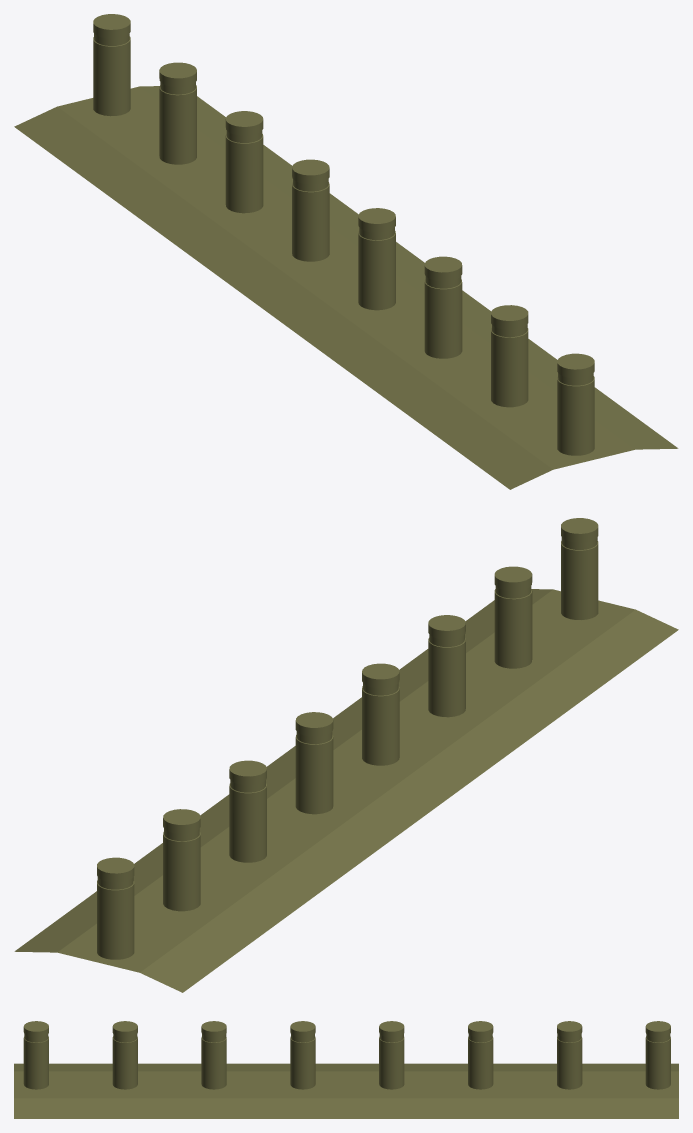
File: AutostopWay.fbx
3 renders of one model, top to bottom at view 1: azimuth 30°, elevation 25°; view 2: azimuth 150°, elevation 25°; view 3: azimuth 270°, elevation 25°, orthographic. The views are drawn at different scales.
Parts seen in each view (by area): view 1: Platform, Colon13, Colon10, Colon14, Colon9, Colon11, Colon12, Colon15, Colon; view 2: Platform, Colon14, Colon11, Colon, Colon10, Colon12, Colon9, Colon15, Colon13; view 3: Platform, Colon12, Colon13, Colon, Colon10, Colon14, Colon11, Colon9, Colon15.
Boxes of the visible parts, x1,y1,x2,y2 form: Platform: (14, 86, 678, 489); Colon13: (424, 256, 462, 358); Colon10: (225, 111, 263, 213); Colon14: (491, 305, 528, 407); Colon9: (159, 62, 196, 164); Colon11: (292, 159, 329, 261); Colon12: (358, 208, 395, 310); Colon15: (557, 353, 594, 455); Colon: (93, 14, 130, 116); Platform: (14, 589, 678, 992); Colon14: (494, 566, 532, 668); Colon11: (295, 712, 333, 814); Colon: (97, 857, 134, 959); Colon10: (229, 760, 266, 862); Colon12: (362, 663, 399, 765); Colon9: (163, 809, 200, 911); Colon15: (561, 518, 598, 619); Colon13: (428, 615, 465, 717); Platform: (14, 1063, 678, 1118); Colon12: (290, 1021, 315, 1089); Colon13: (201, 1021, 226, 1089); Colon: (645, 1021, 670, 1089); Colon10: (468, 1021, 493, 1089); Colon14: (112, 1021, 137, 1089); Colon11: (379, 1021, 404, 1089); Colon9: (557, 1021, 582, 1089); Colon15: (23, 1021, 48, 1089).
Bounding box in the file's own units: 0.0735 × 0.0399 × 0.3743.
